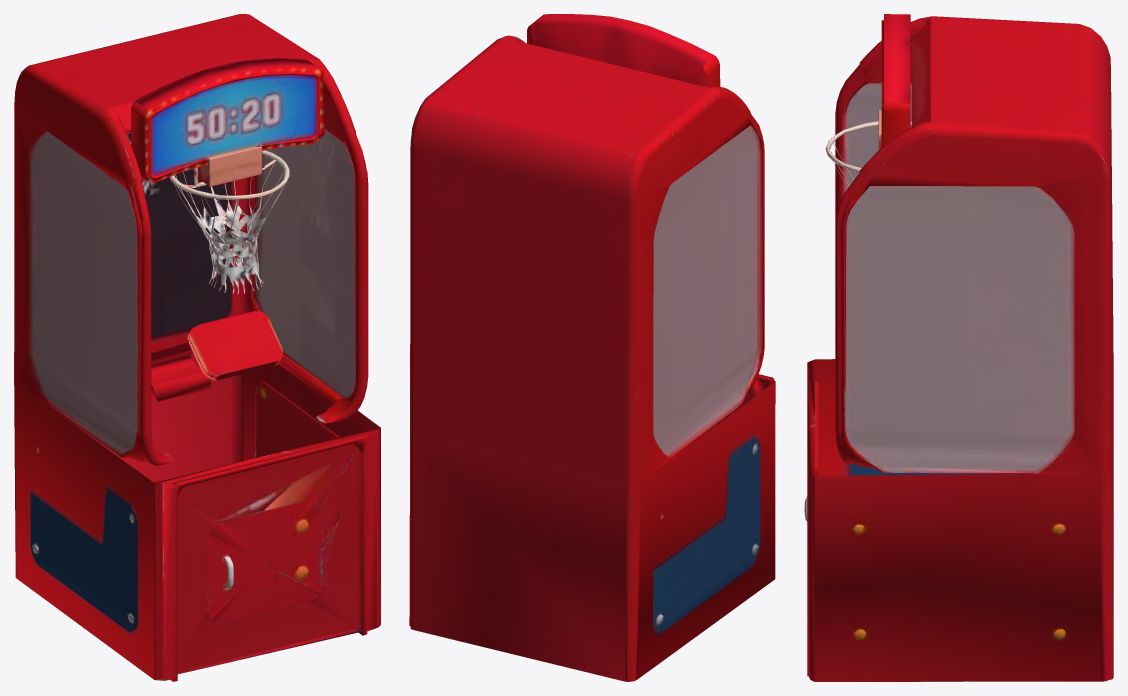
File: hoop_arcade.glb
3 views of the same model, side by side, from view 1: azimuth 30°, elevation 25°; view 2: azimuth 150°, elevation 25°; view 3: azimuth 270°, elevation 25° (orthographic). The views are drawn at different scales.
Size of the model in its own units: 0.4135 by 0.9536 by 0.4575.
Materials: 1 (1 with a texture image).
